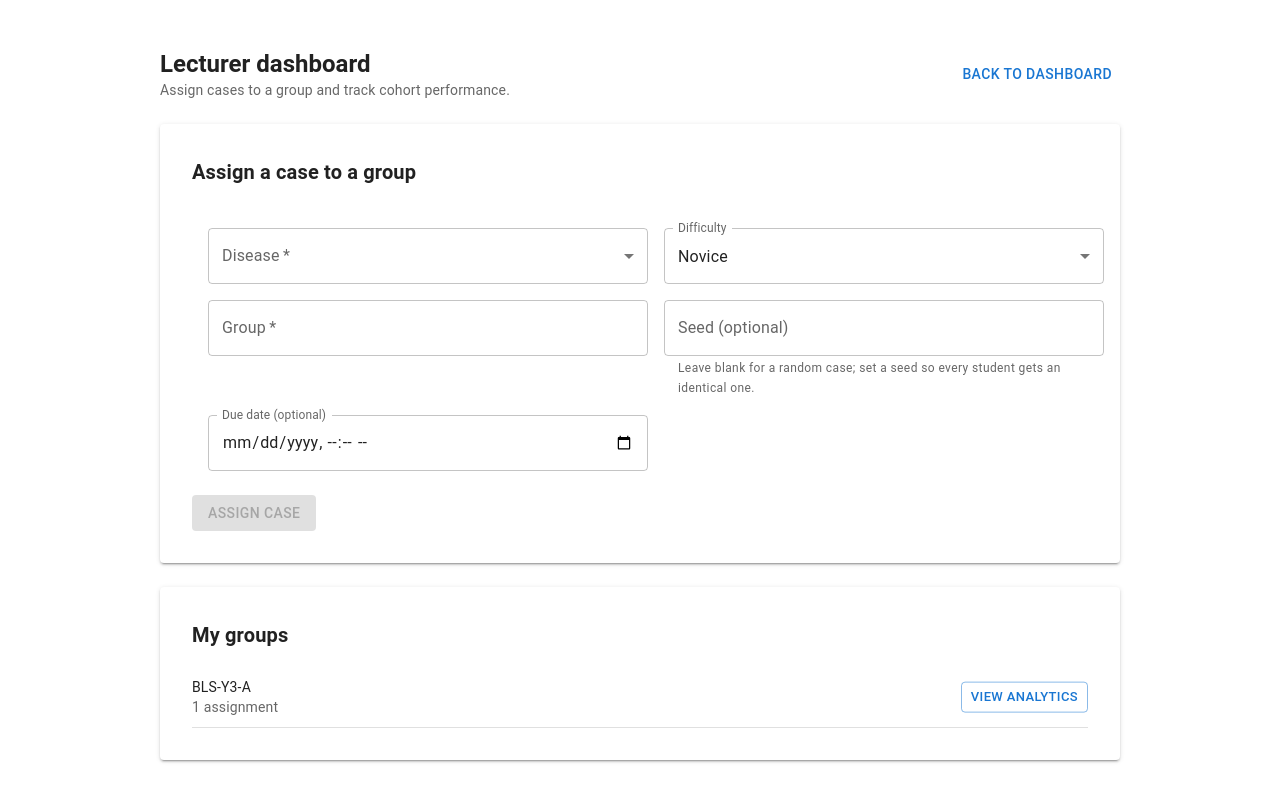
it: LecturerDashboardPage › lists the lecturer's groups and loads cohort analytics on demand
This screenshot has width=1280, height=800.
Expected: the text "BLS-Y3-A" is shown, [192,679,251,695]
Expected: the text "1 assignment" is shown, [192,699,278,715]
Click the button "View analytics": (1024, 697) [961,682,1088,713]
(page scrolled)
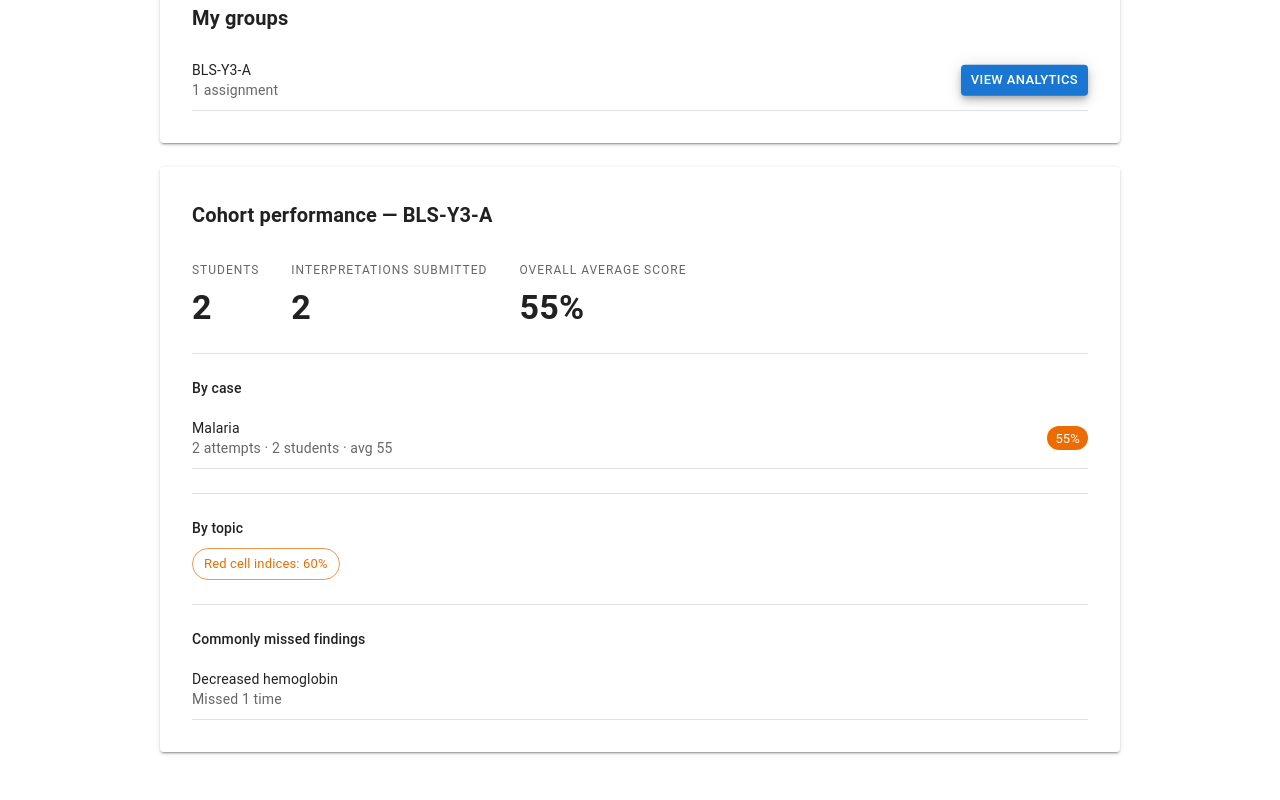
Now the heading "Cohort performance — BLS-Y3-A" is shown, box [192,203,493,227]
Now the text "Decreased hemoglobin" is shown, box [192,671,338,687]
Now the text "Missed 1 time" is shown, box [192,691,282,707]
